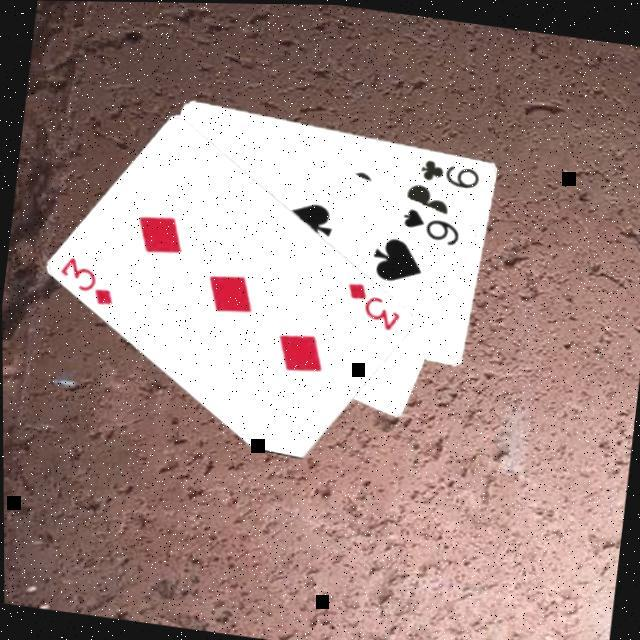3D: (54, 254, 122, 312), (341, 278, 408, 336)
6S: (398, 203, 466, 250)
9C: (417, 154, 485, 193)
